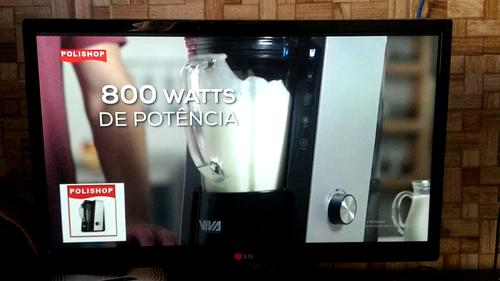Polishop #1: (60, 182, 126, 242)
